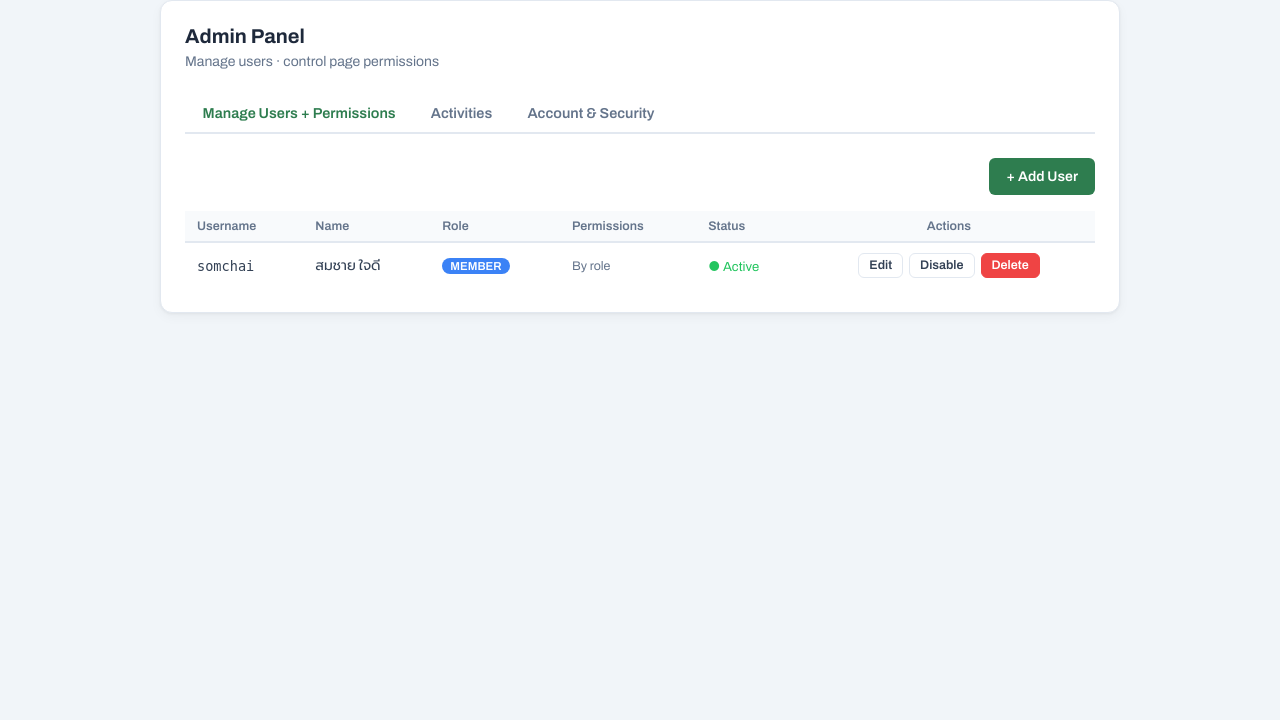
it: AdminPanelPage › ปุ่มสร้างถูกปิดถ้ารหัสผ่านสั้นกว่า 4 ตัว (validation)
This screenshot has width=1280, height=720.
Click the button "+ Add User" at (1042, 177), box top-left (989, 158), bottom-right (1095, 195)
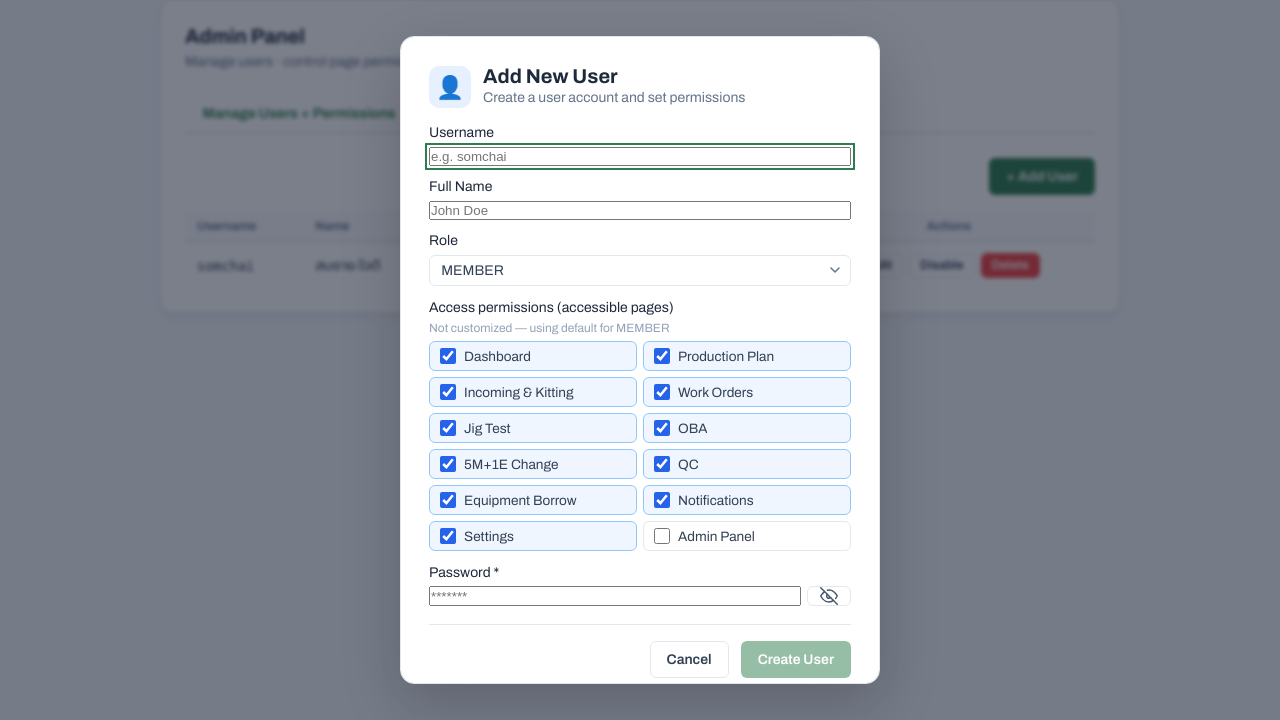
expect the button "Create User" is disabled: met, box top-left (741, 641), bottom-right (851, 678)
Type "12" into the password field with placeholder "*******" at (615, 596), box top-left (429, 586), bottom-right (801, 606)
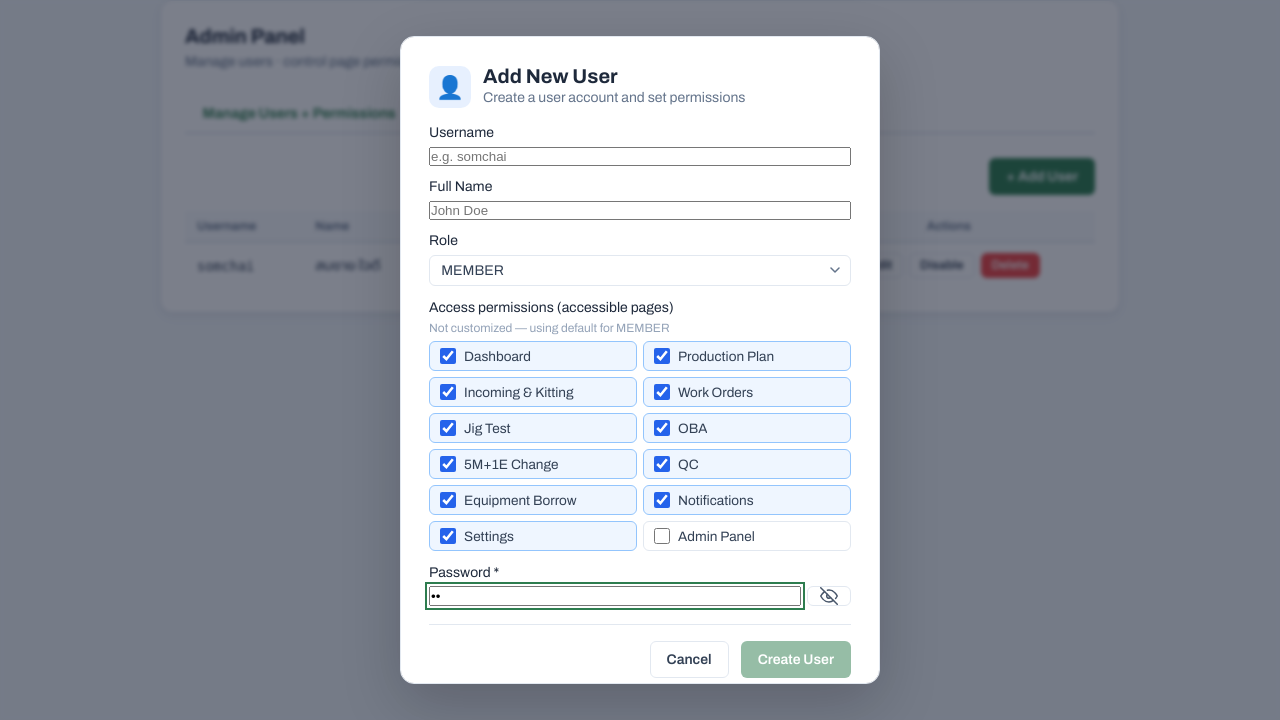
expect the button "Create User" is disabled: met, box top-left (741, 641), bottom-right (851, 678)
Type "34" into the password field with placeholder "*******" at (615, 596), box top-left (429, 586), bottom-right (801, 606)
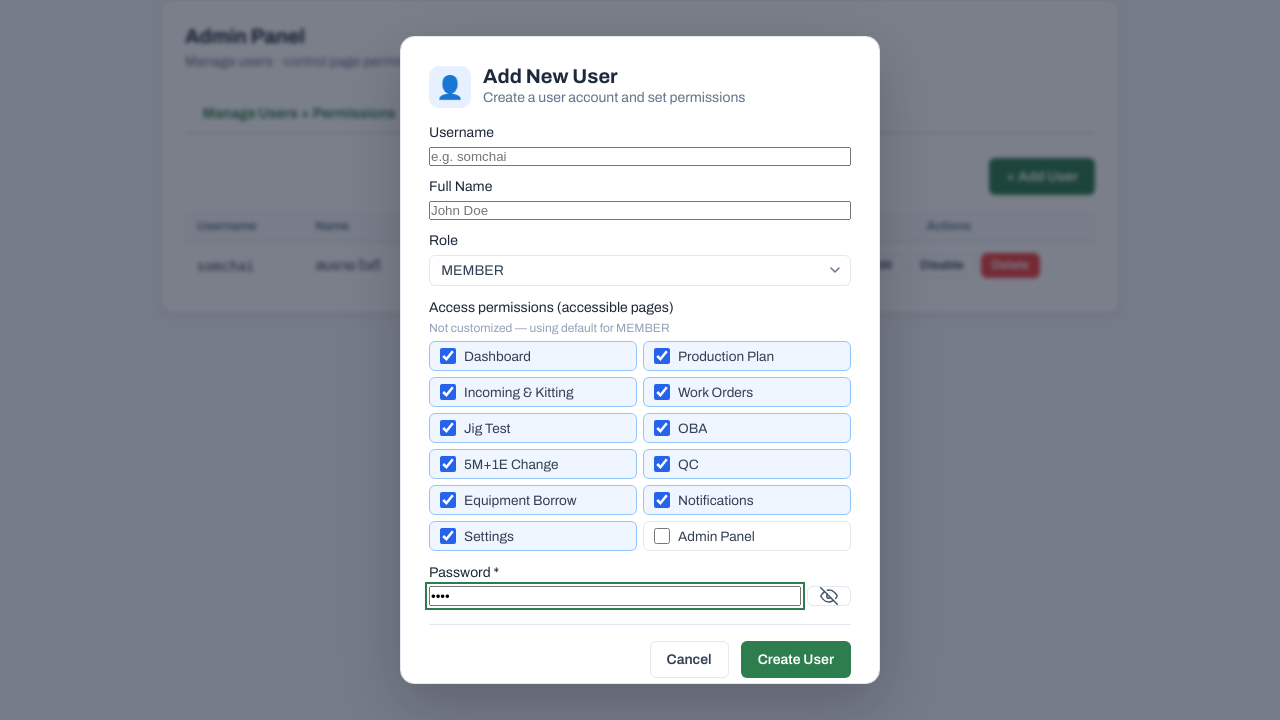
expect the button "Create User" is enabled: met, box top-left (741, 641), bottom-right (851, 678)
